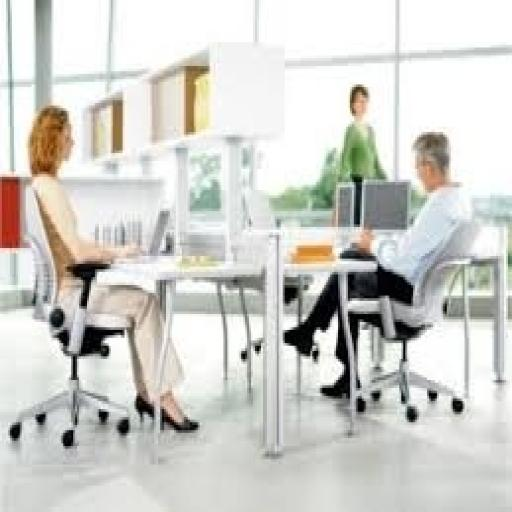sitting: (24, 100, 202, 436), (281, 127, 476, 401)
